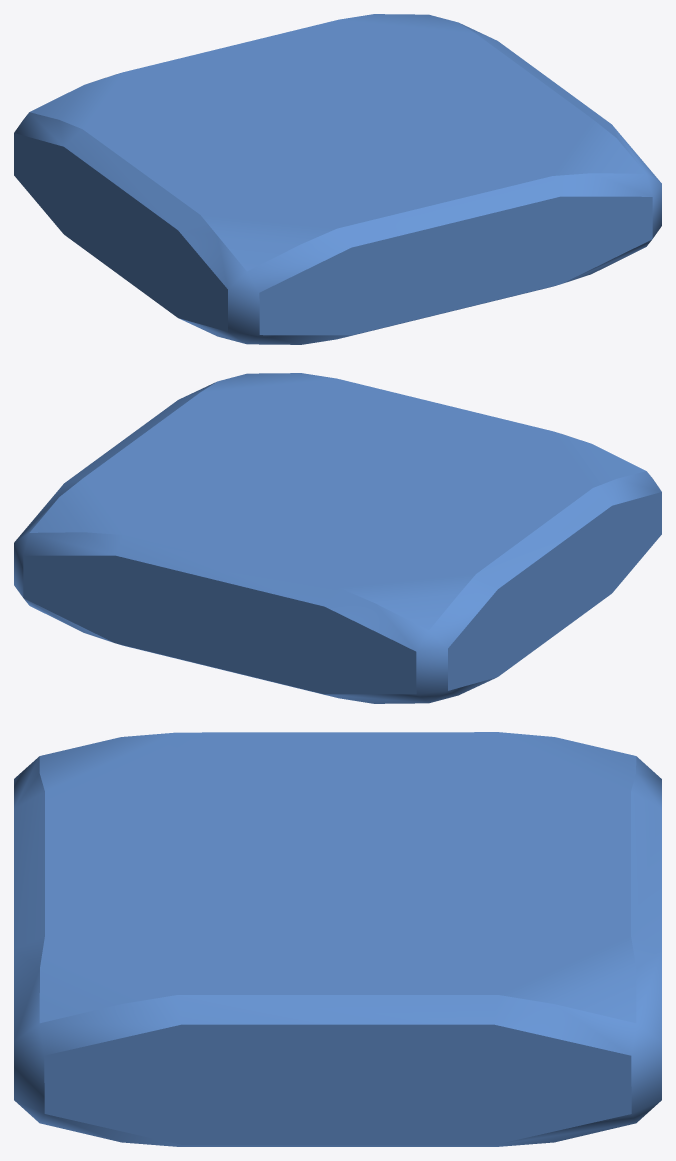
The model's file is 座布団.fbx.
3 renders of one model, top to bottom at view 1: azimuth 30°, elevation 25°; view 2: azimuth 150°, elevation 25°; view 3: azimuth 270°, elevation 25°, orthographic. The views are drawn at different scales.
Visible parts, largest first — view 1: pCube23; view 2: pCube23; view 3: pCube23.
Part boxes in pixels (box(x1,y1,x2,y2)): pCube23: box(14, 14, 661, 344); pCube23: box(14, 373, 661, 703); pCube23: box(14, 732, 661, 1146).
Size of the model in its own units: 24.48 by 5.97 by 23.09.
